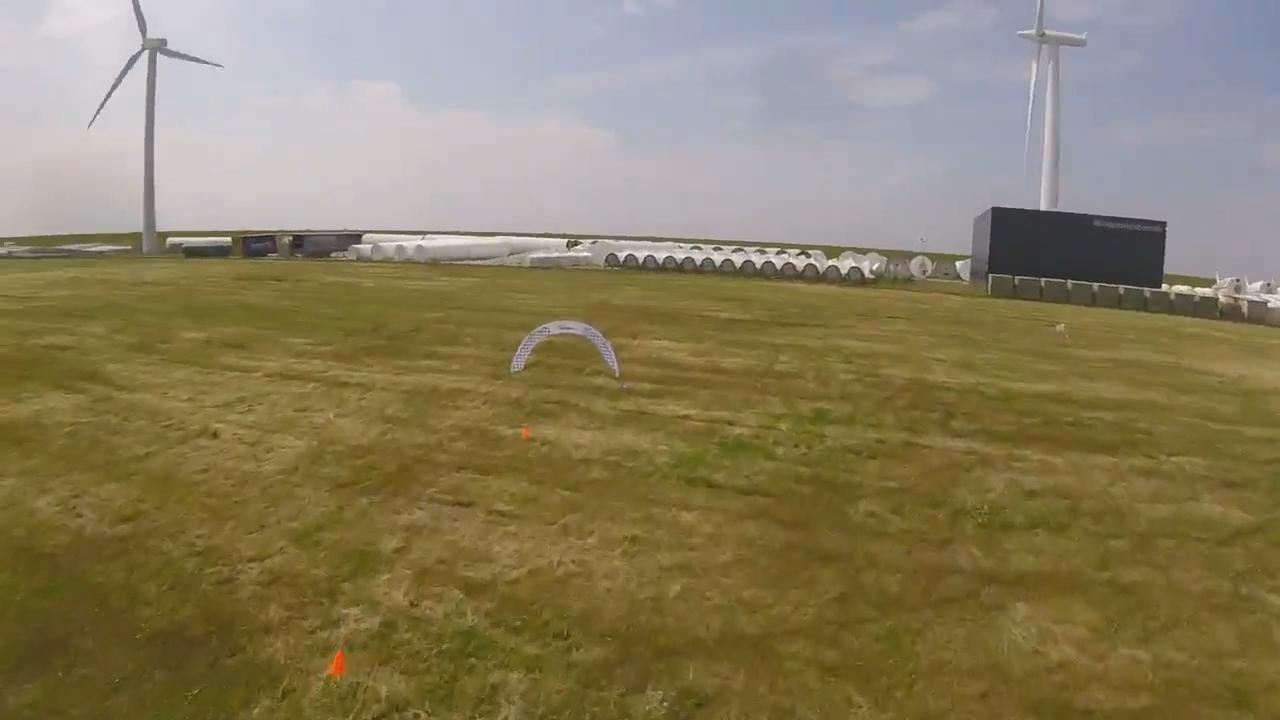gate: (508, 319, 620, 382)
